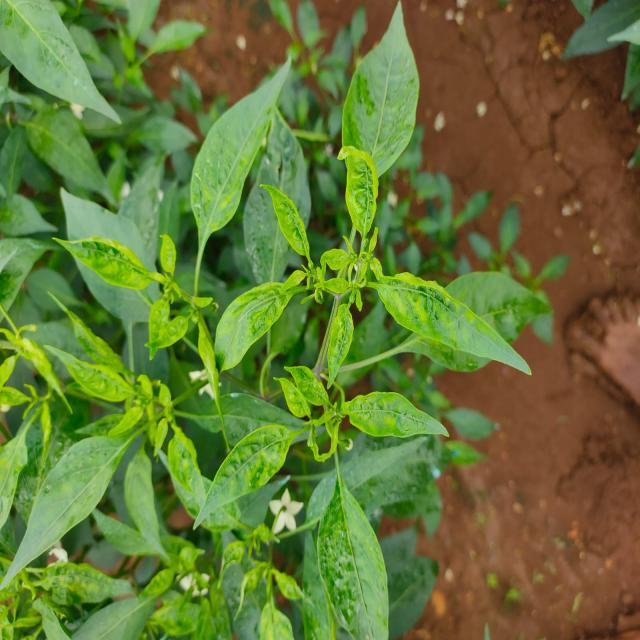Moko: (257, 115, 477, 365), (196, 342, 461, 538), (88, 527, 316, 640), (62, 206, 218, 357), (97, 320, 207, 504), (0, 283, 81, 450)
